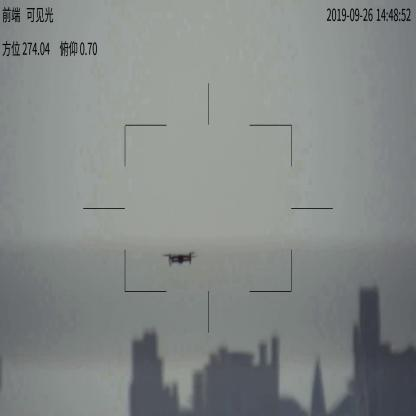uav: (164, 250, 199, 268)
